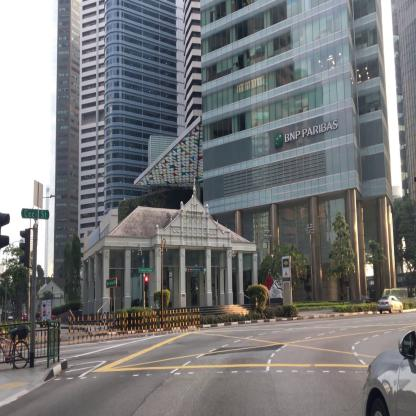red_traffic_light: (144, 275, 147, 292)
